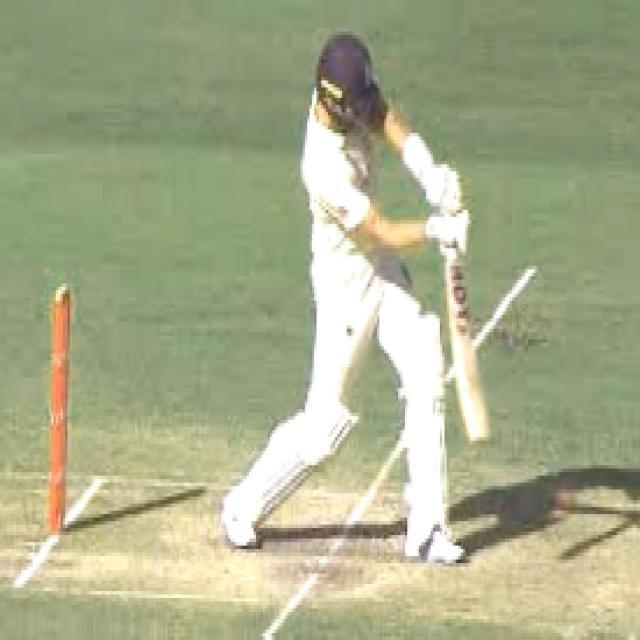bat: (420, 243, 510, 440)
toe: (468, 428, 496, 445)
